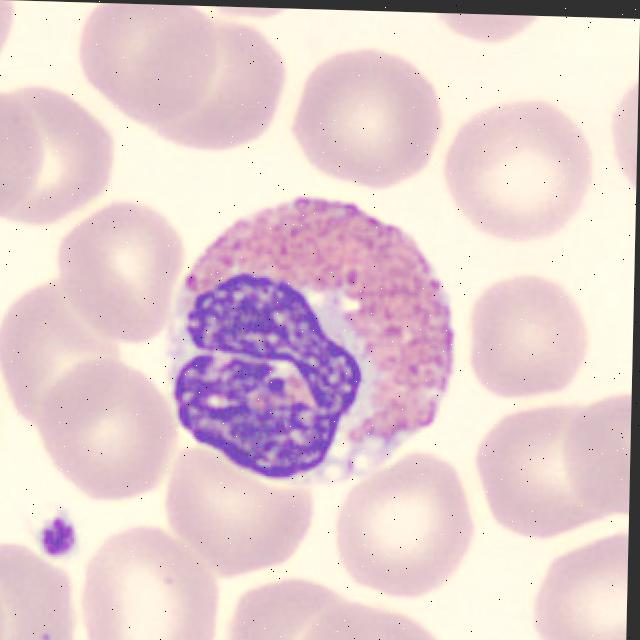eosinophil: (159, 188, 463, 483)
platelets: (32, 516, 81, 557)
rbc: (454, 263, 634, 394), (291, 43, 449, 187), (45, 192, 178, 345), (440, 95, 588, 232), (57, 2, 224, 123), (162, 447, 308, 572), (141, 16, 282, 144), (34, 355, 175, 483), (476, 404, 622, 522), (531, 365, 632, 520), (10, 86, 125, 219), (347, 457, 457, 589), (81, 528, 209, 640), (11, 280, 113, 418), (528, 532, 629, 640), (220, 580, 367, 640), (0, 538, 82, 640), (289, 595, 461, 640), (595, 62, 639, 202), (0, 87, 39, 217), (0, 549, 22, 640)
